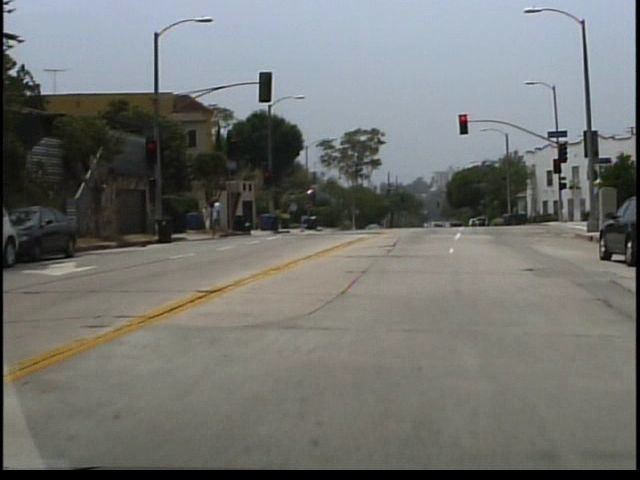person: (215, 197, 232, 240), (207, 203, 216, 236)
